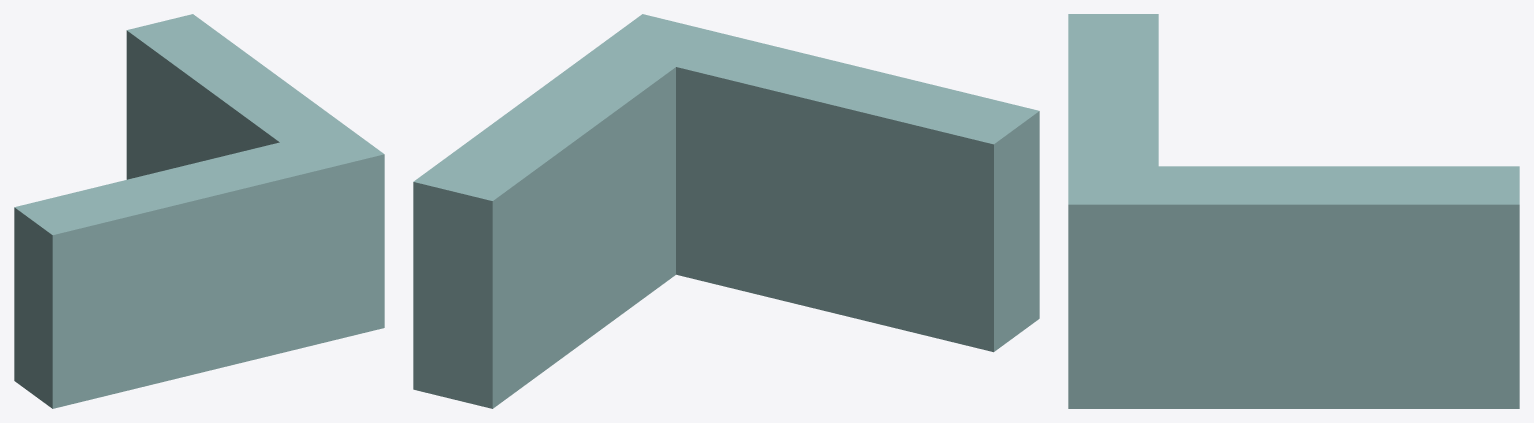
The model's file is wall_corner.fbx.
3 views of the same model, side by side, from view 1: azimuth 30°, elevation 25°; view 2: azimuth 150°, elevation 25°; view 3: azimuth 270°, elevation 25° (orthographic). The views are drawn at different scales.
Parts seen in each view (by area): view 1: polySurface1; view 2: polySurface1; view 3: polySurface1.
Part boxes in pixels (bbox=[...]): polySurface1: bbox=[14, 14, 384, 408]; polySurface1: bbox=[413, 14, 1039, 408]; polySurface1: bbox=[1068, 14, 1519, 408].
Bounding box in the file's own units: 1 × 0.5 × 1.
